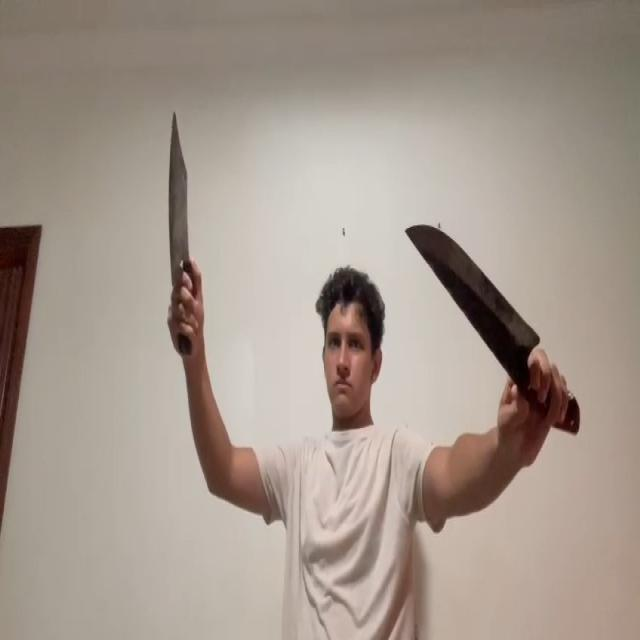knife: (406, 222, 538, 356), (168, 108, 189, 288)
